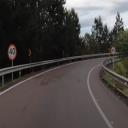speed_limit_40: (8, 44, 17, 61), (111, 46, 116, 57)
